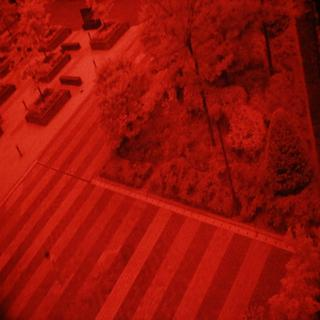person: (41, 244, 70, 296)
